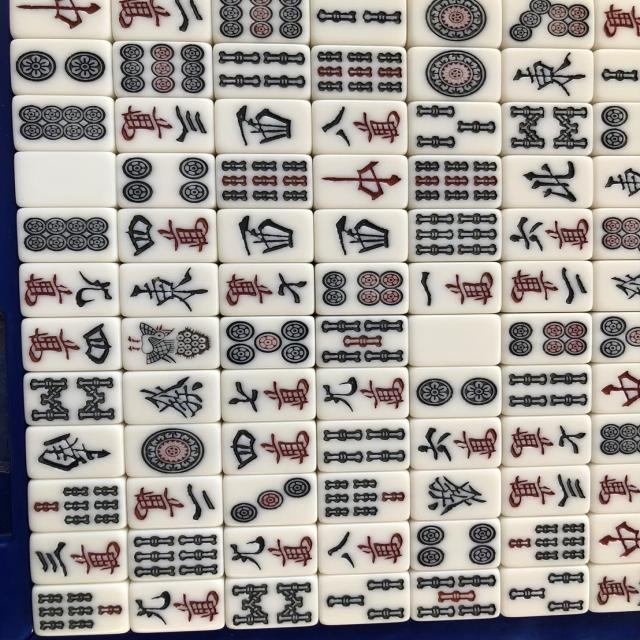bamboos_1: (122, 316, 222, 372)
bamboos_3: (408, 102, 502, 154), (316, 573, 412, 623), (503, 568, 589, 616)
bamboos_4: (210, 41, 314, 101), (319, 422, 411, 474), (500, 366, 593, 414)
bamboos_5: (315, 314, 409, 368), (411, 569, 500, 620)
bamboos_6: (125, 528, 226, 582), (410, 209, 502, 261)
bamboos_7: (29, 479, 129, 532), (318, 471, 414, 525), (32, 582, 130, 632), (502, 518, 592, 565)
bamboos_8: (23, 372, 127, 424), (222, 577, 320, 630), (502, 100, 594, 154)
bamboos_9: (310, 44, 410, 101), (216, 153, 316, 208), (408, 155, 501, 207)
characters_1: (407, 262, 502, 314)
characters_2: (122, 478, 227, 529), (500, 260, 594, 311)
characters_3: (114, 94, 216, 152), (30, 534, 130, 582), (501, 468, 594, 516)
characters_4: (118, 207, 220, 262), (20, 318, 124, 370), (219, 423, 319, 475)
characters_6: (504, 208, 594, 262), (411, 419, 504, 468)
characters_7: (220, 262, 318, 318), (224, 371, 318, 422), (502, 416, 593, 466)
characters_8: (310, 99, 410, 156), (321, 524, 415, 574)
characters_9: (20, 263, 120, 319), (224, 524, 320, 578), (129, 580, 225, 632), (315, 368, 409, 421)
circles_1: (410, 47, 504, 102), (127, 422, 224, 475)
circles_2: (10, 38, 111, 92), (408, 365, 502, 416)
circles_3: (224, 474, 321, 529)
circles_4: (117, 153, 217, 207), (409, 520, 502, 570)
circles_5: (217, 314, 317, 368)
circles_6: (316, 263, 410, 316), (499, 314, 594, 364)
circles_8: (10, 92, 116, 152), (17, 208, 121, 263)
circles_9: (112, 40, 217, 98)
east: (121, 264, 222, 317), (500, 47, 594, 101)
green: (121, 372, 222, 422), (411, 470, 503, 520)
north: (502, 156, 595, 207)
red: (314, 154, 408, 208)
south: (28, 426, 125, 480)
west: (214, 98, 312, 156), (215, 209, 315, 261), (315, 209, 411, 263)
white: (12, 153, 122, 209), (409, 314, 504, 366)
